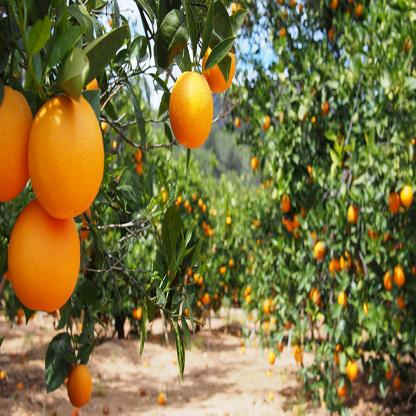---: (24, 86, 109, 228), (3, 196, 88, 316), (167, 65, 219, 152), (63, 357, 97, 409)
